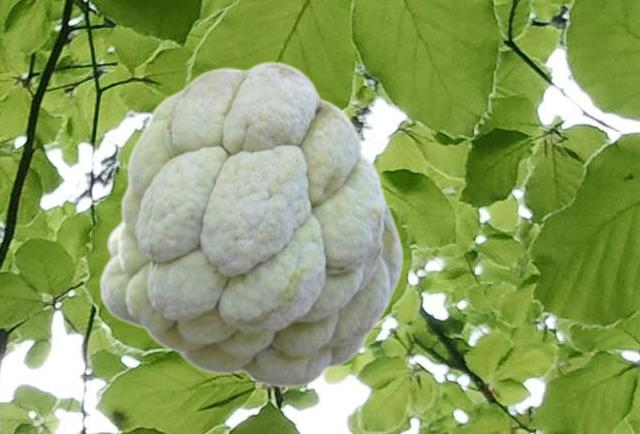atis: (98, 60, 403, 387)
